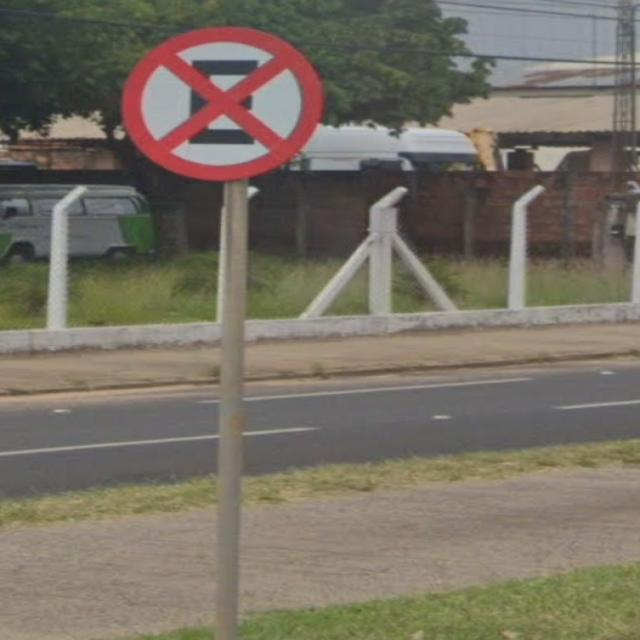no parking: (85, 20, 346, 192)
